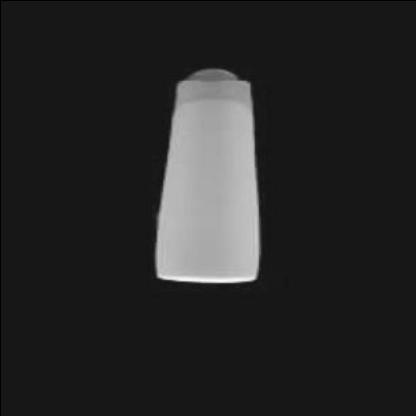objects: (158, 69, 258, 292)
